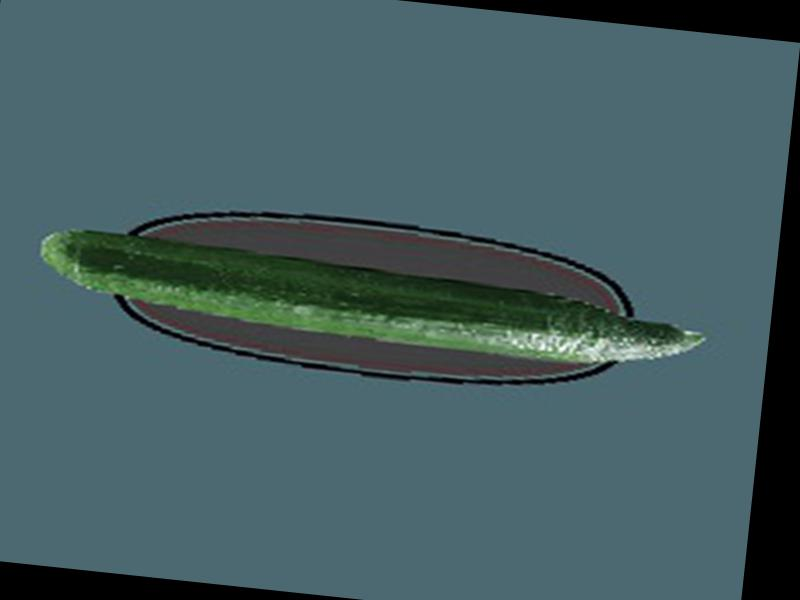Cucumber: (32, 222, 710, 374)
